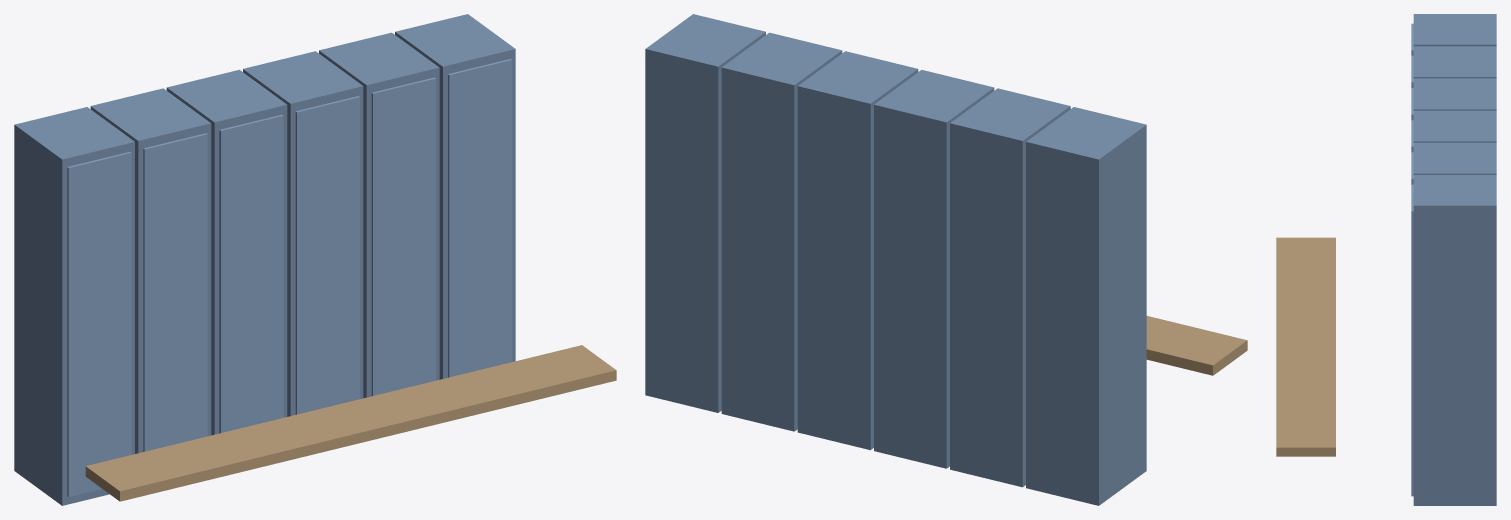
Rendered from locker_bank.glb.
The picture shows the model from 3 angles, left to right: view 1: azimuth 30°, elevation 25°; view 2: azimuth 150°, elevation 25°; view 3: azimuth 270°, elevation 25°; orthographic projection. The views are drawn at different scales.
Parts seen in each view (by area): view 1: LockerBank; view 2: LockerBank; view 3: LockerBank.
Part boxes in pixels (<box>): LockerBank: <box>14,14,616,505</box>; LockerBank: <box>645,14,1247,505</box>; LockerBank: <box>1276,14,1496,505</box>.
Bounding box in the file's own units: 3 × 2 × 1.33.
